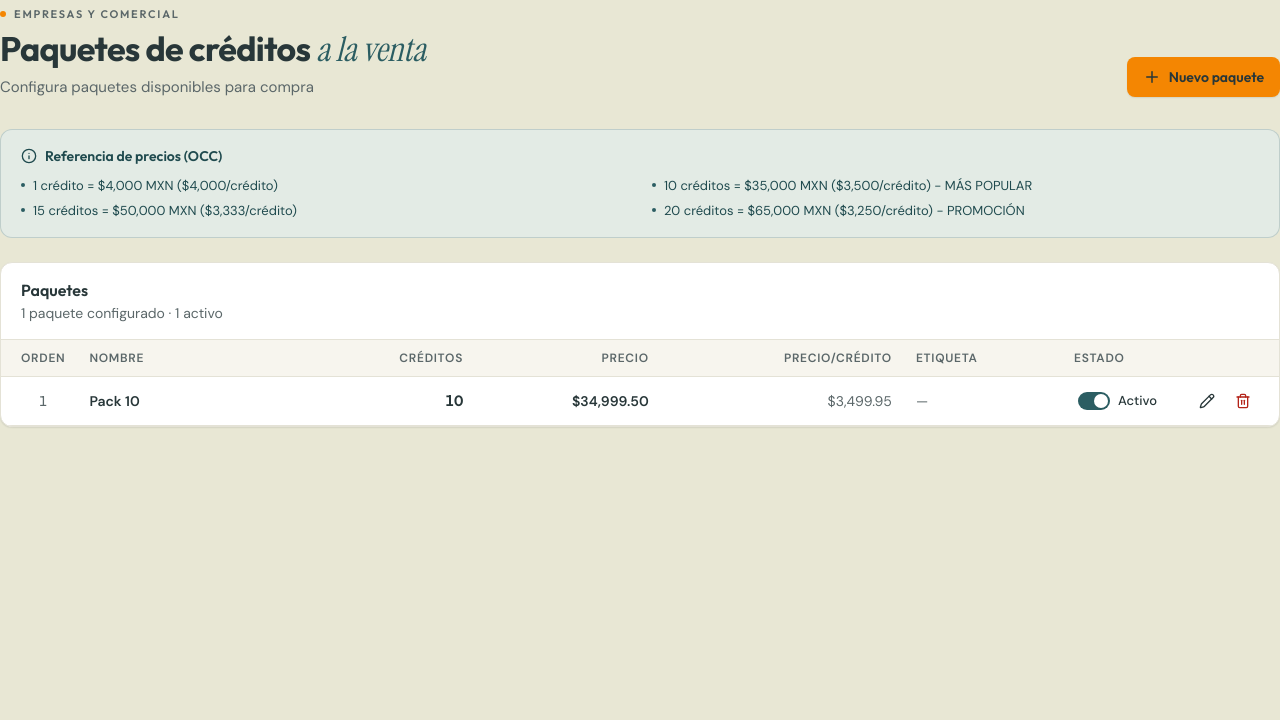
Scenario: /admin/credit-packages › ADM-061: el interruptor de Estado pide confirmación antes de desactivar
The image size is (1280, 720).
What coordinates should you click on to do the following:
click the switch labelled "Activo"
I would click on:
 (1121, 401)
Its box is [1074, 385, 1167, 417].
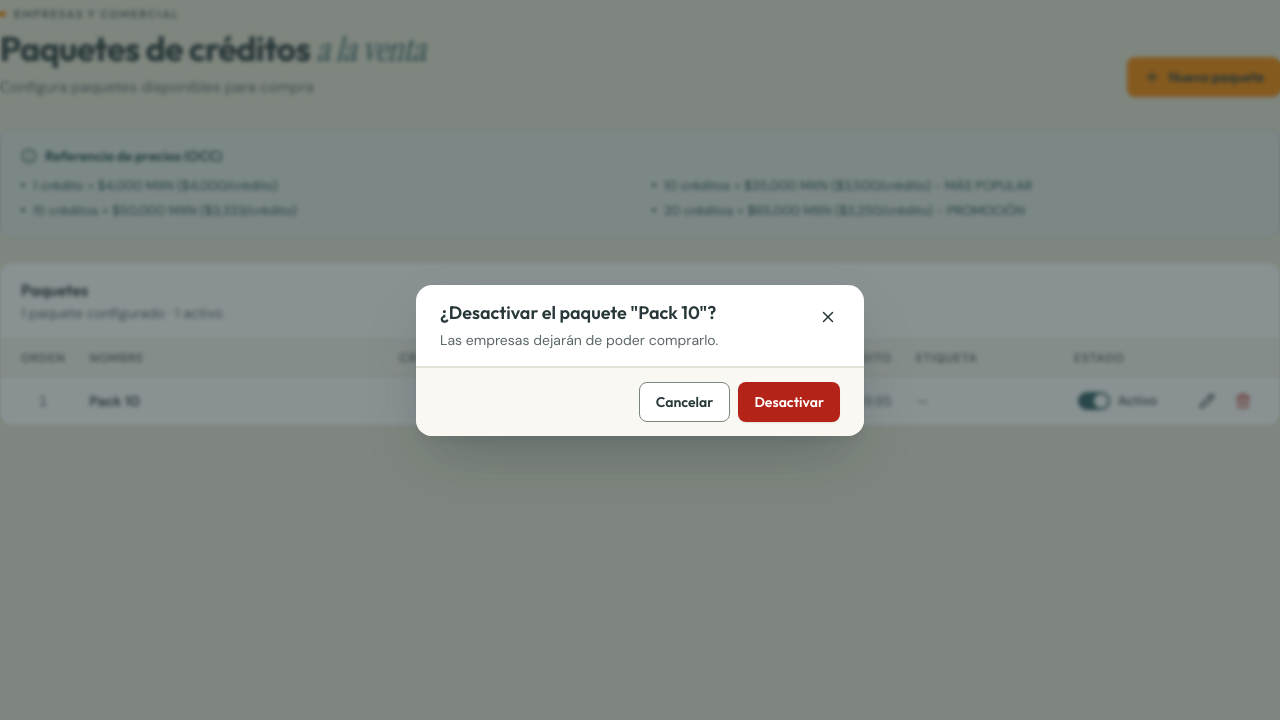
Expected: the dialog shows "Pack 10", [440, 301, 716, 324]
What coordinates should you click on to do the following:
click the button "Cancelar"
I would click on:
 (685, 401)
Its box is [639, 381, 730, 421].
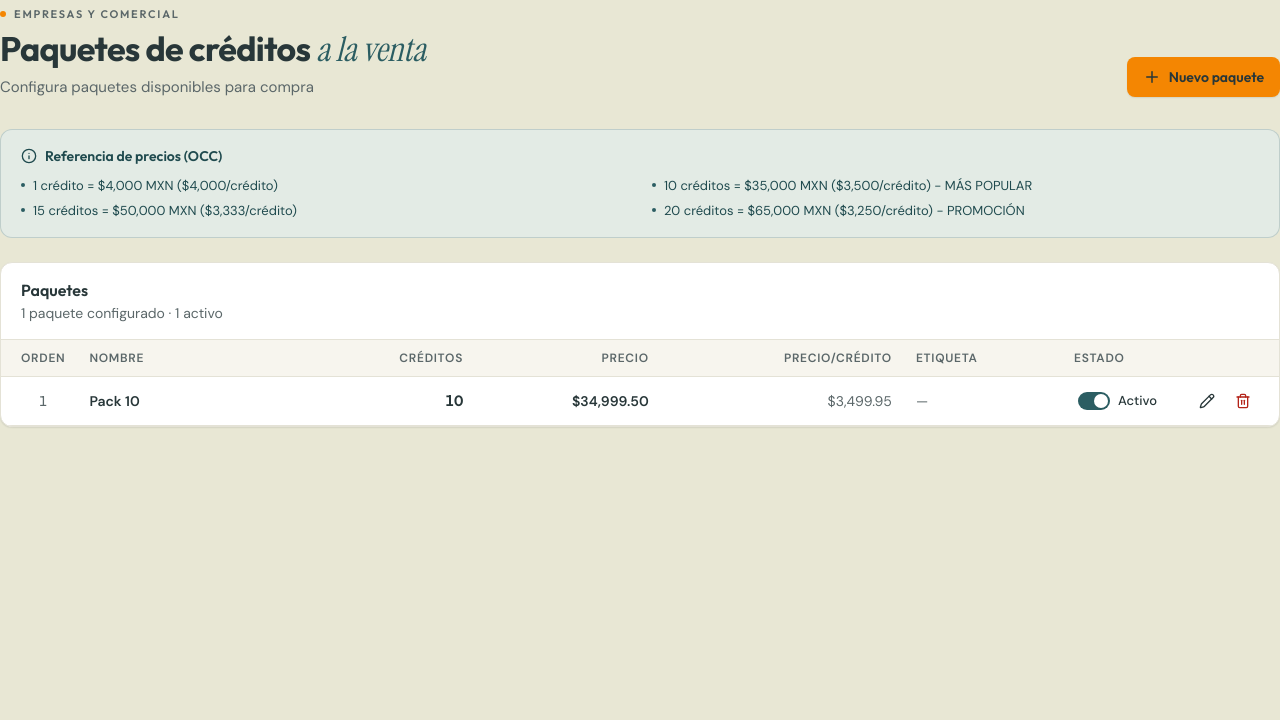
Expected: the dialog is gone
